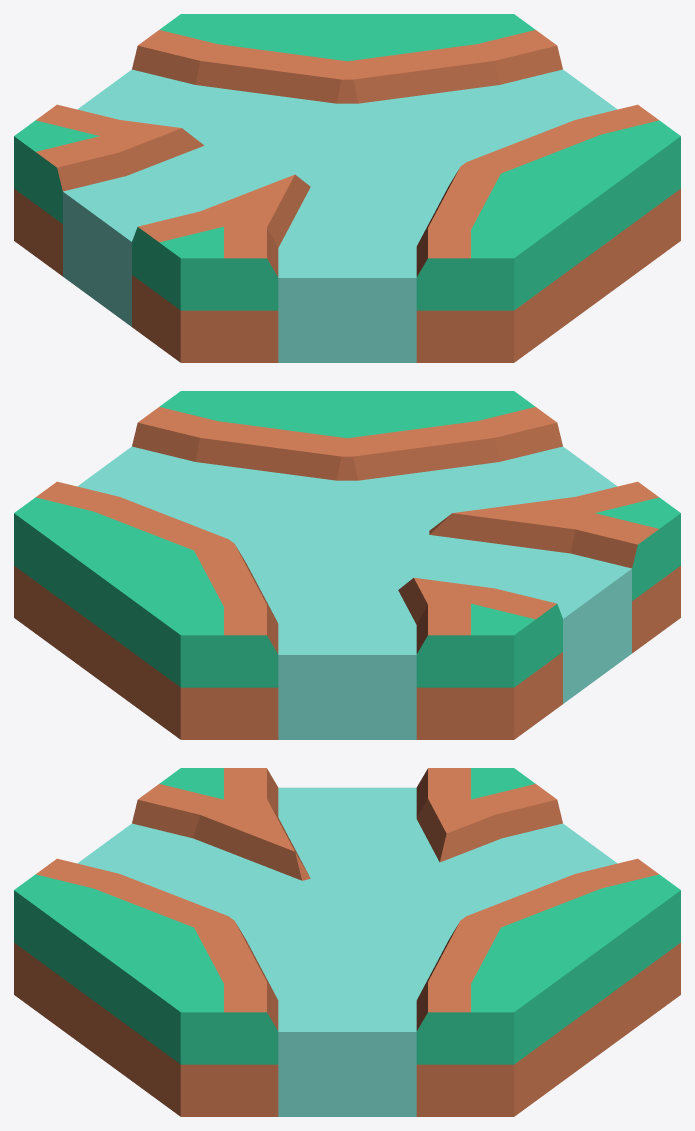
File: river_intersectionD.dae
3 renders of one model, top to bottom at view 1: azimuth 30°, elevation 25°; view 2: azimuth 150°, elevation 25°; view 3: azimuth 270°, elevation 25°, orthographic.
Parts seen in each view (by area): view 1: river_intersectionD; view 2: river_intersectionD; view 3: river_intersectionD.
Part boxes in pixels (left/top/right/bottom): river_intersectionD: left=14, top=14, right=680, bottom=362; river_intersectionD: left=14, top=391, right=680, bottom=739; river_intersectionD: left=14, top=768, right=680, bottom=1116.
Bounding box in the file's own units: 1 × 0.2 × 1.15.
